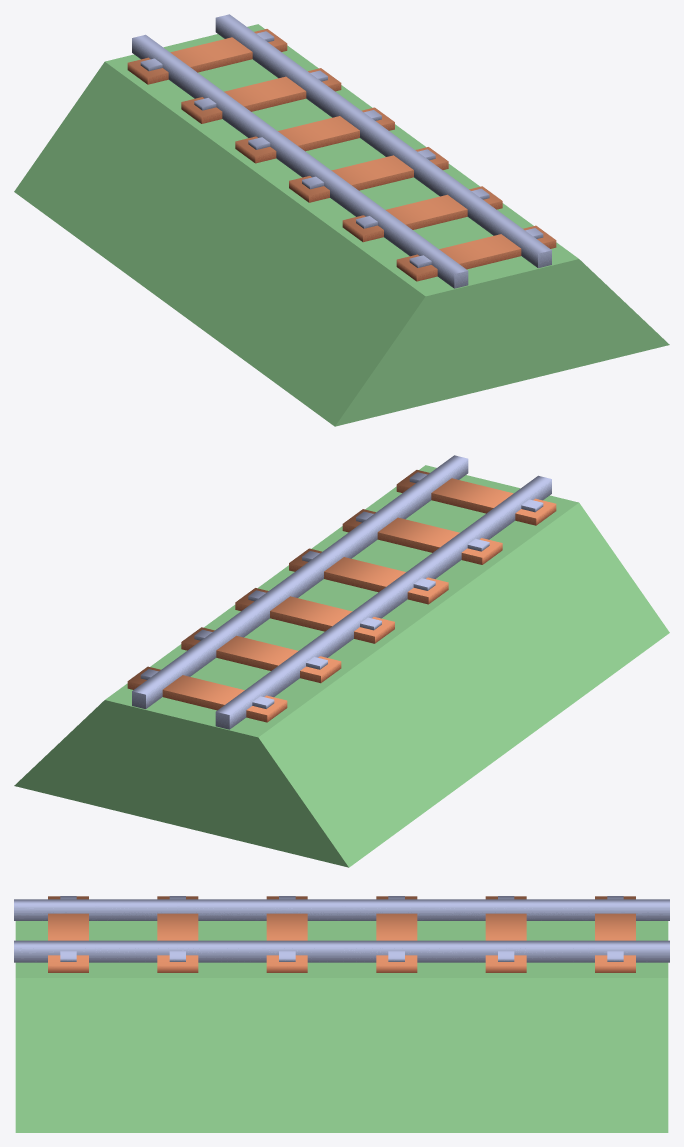
File: hill-hill-half.glb
3 views of the same model, one above another, from view 1: azimuth 30°, elevation 25°; view 2: azimuth 150°, elevation 25°; view 3: azimuth 270°, elevation 25° (orthographic).
Visible parts, largest first — view 1: bump_half_mound, bump_half_rails; view 2: bump_half_mound, bump_half_rails; view 3: bump_half_mound, bump_half_rails.
Boxes of the visible parts, left/top/right/bottom form: bump_half_mound: left=14, top=24, right=669, bottom=426; bump_half_rails: left=127, top=14, right=556, bottom=288; bump_half_mound: left=14, top=465, right=669, bottom=867; bump_half_rails: left=127, top=455, right=556, bottom=729; bump_half_mound: left=15, top=921, right=668, bottom=1132; bump_half_rails: left=14, top=896, right=669, bottom=972.
Size of the model in its own units: 2.4 by 0.85 by 4.
Materials: 2 (1 with a texture image).
